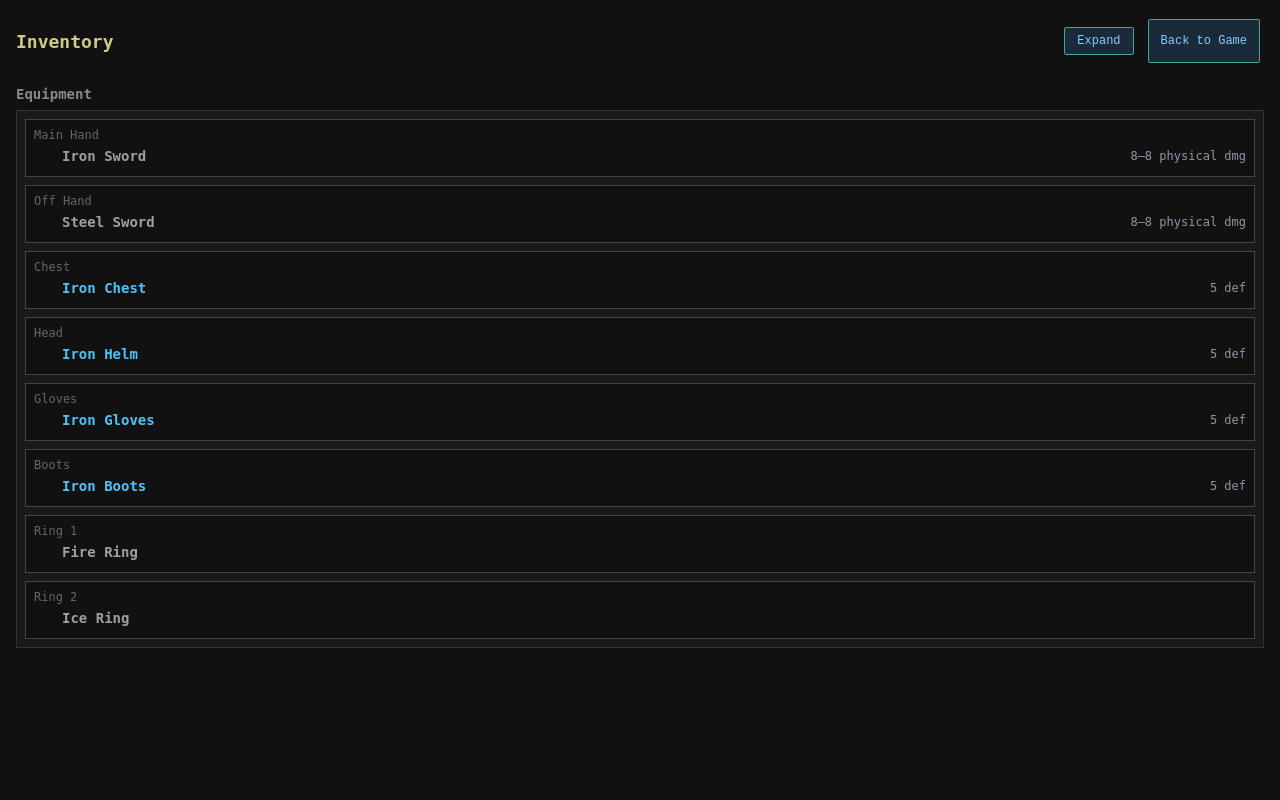
Test case: InventoryScreen Component › Mobile Layout with Fully Equipped Player › does not push bag section off-screen when fully equipped on mobile
This screenshot has width=1280, height=800.
Click the button "Expand".
click(1099, 41)  # box x1=1064 y1=27 x2=1134 y2=55
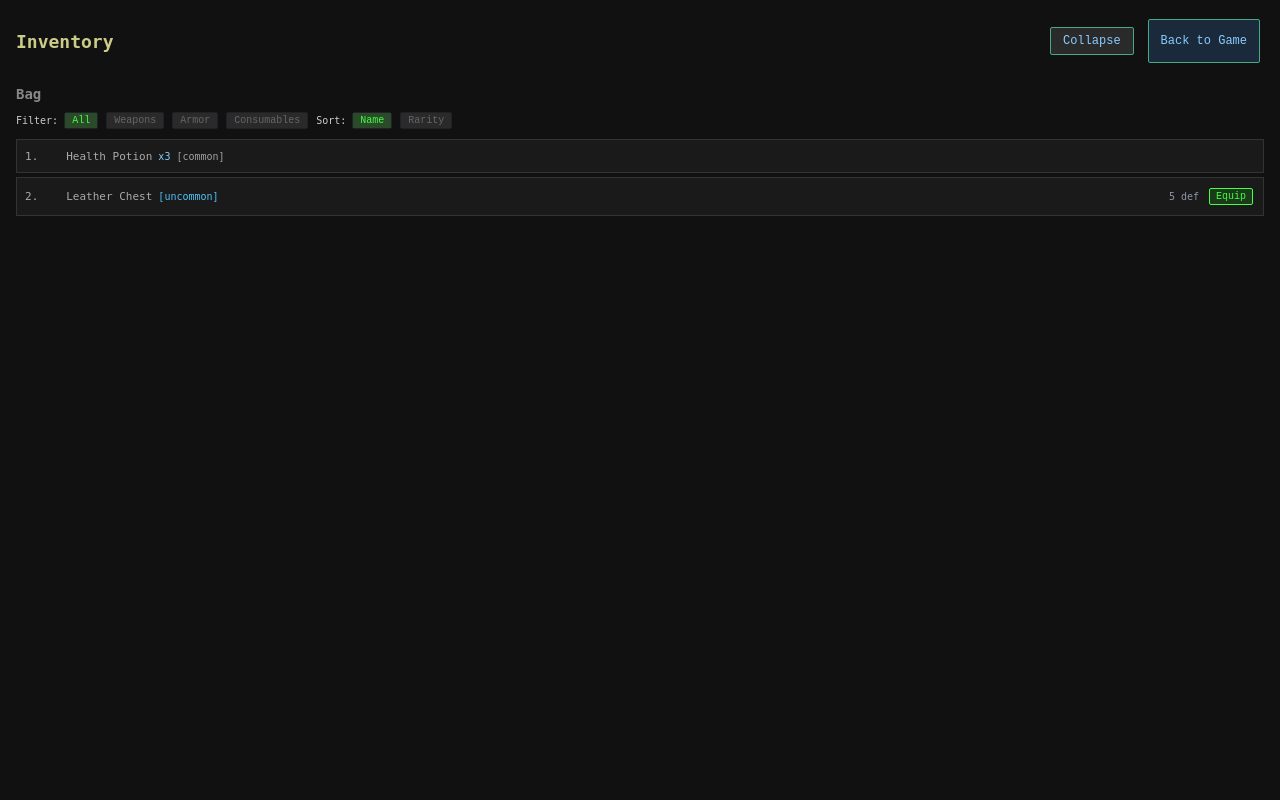
Result: the heading "Bag" is shown at x1=16 y1=86 x2=41 y2=102
